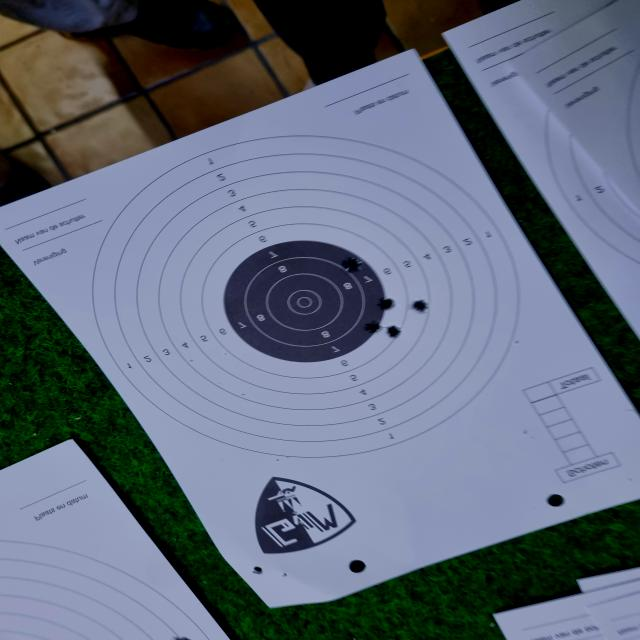5: (411, 299, 429, 313)
6: (386, 325, 402, 338)
7: (342, 258, 362, 272), (364, 322, 384, 333), (378, 298, 396, 310)
Target: (90, 134, 522, 459)
black_contour: (218, 240, 385, 367)
